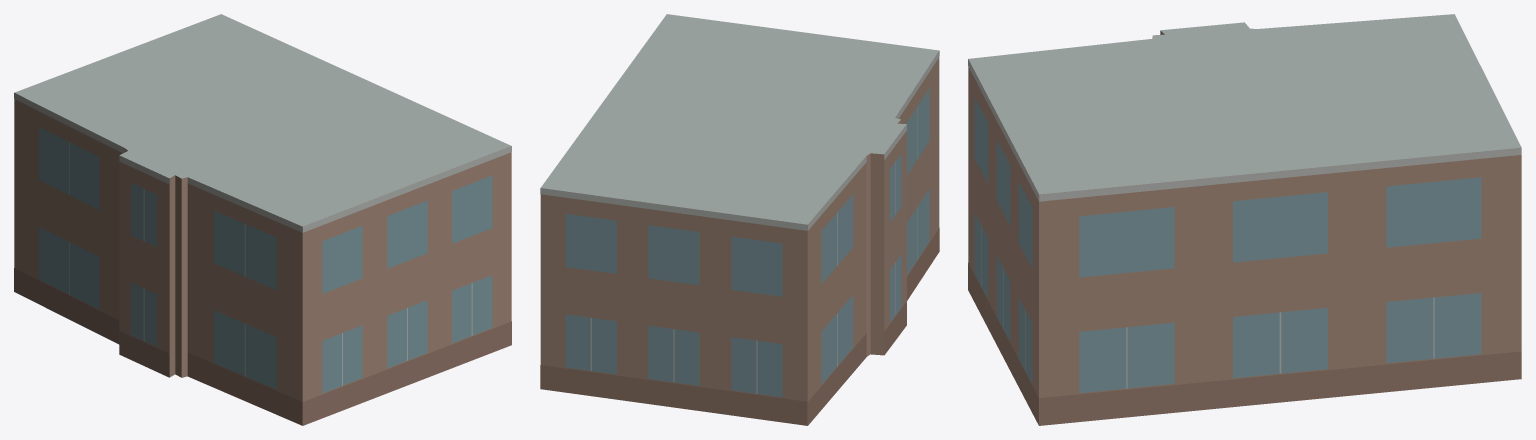
File: survey-upis-32624107.glb
3 views of the same model, side by side, from view 1: azimuth 30°, elevation 25°; view 2: azimuth 150°, elevation 25°; view 3: azimuth 270°, elevation 25° (orthographic). The views are drawn at different scales.
Visible parts, largest first — view 1: survey-upis-32624107.tmp; view 2: survey-upis-32624107.tmp; view 3: survey-upis-32624107.tmp.
Part boxes in pixels (x1,y1,x2,y2): survey-upis-32624107.tmp: (14, 14, 511, 425); survey-upis-32624107.tmp: (540, 14, 939, 425); survey-upis-32624107.tmp: (968, 14, 1521, 425).
Bounding box in the file's own units: 13.23 × 7.9 × 17.14.
